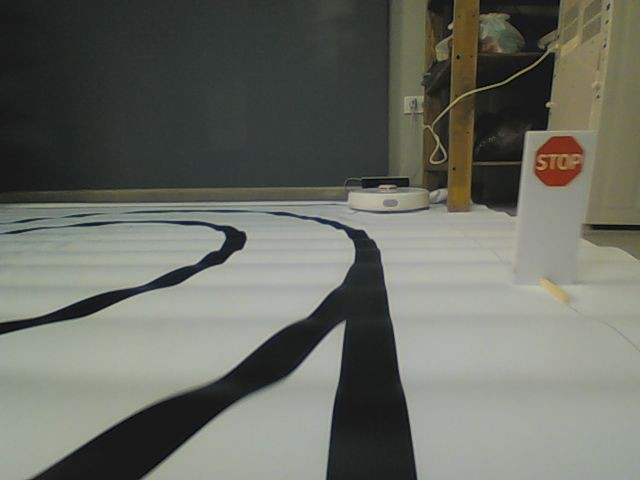Stop: (532, 136, 583, 190)
